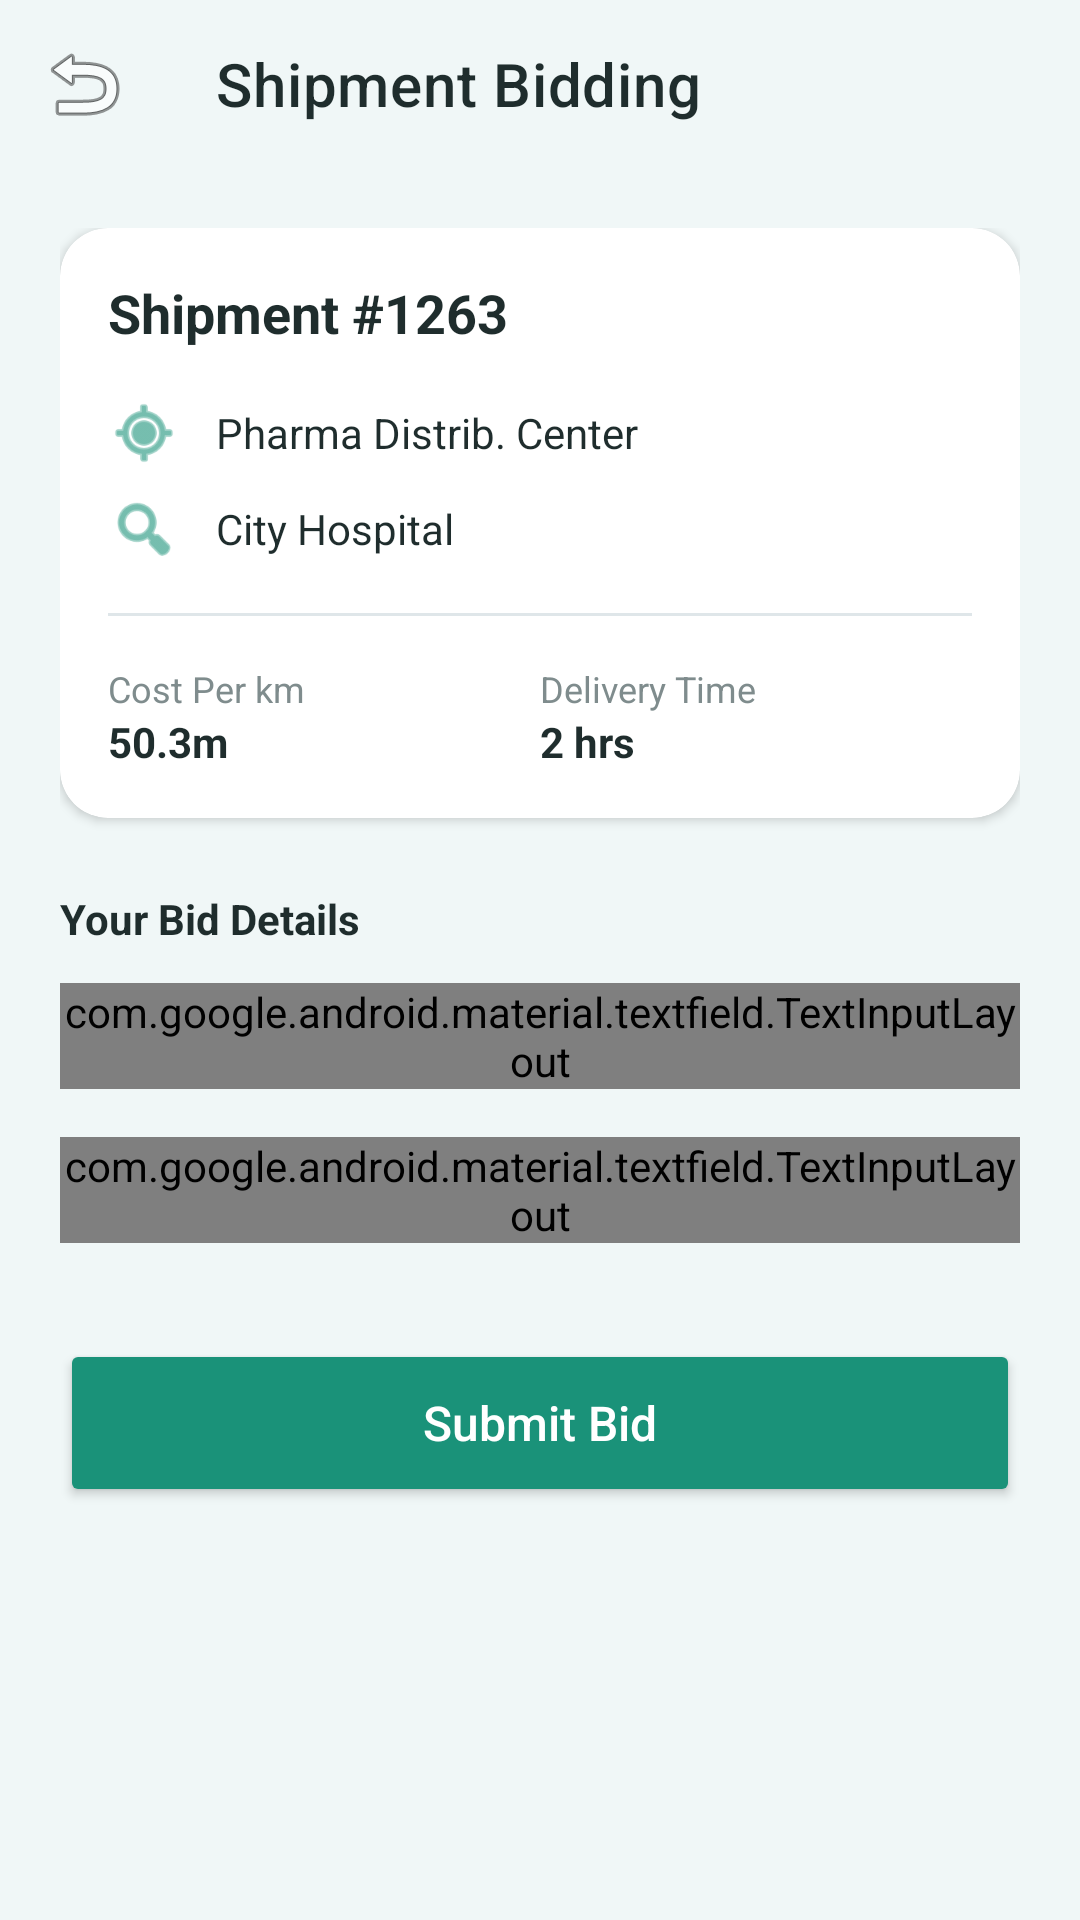

Named icons in this screenshot (1080px x 1920px) and their centers, point (x, y):
mylocation: point (144, 433)
search: point (144, 529)
